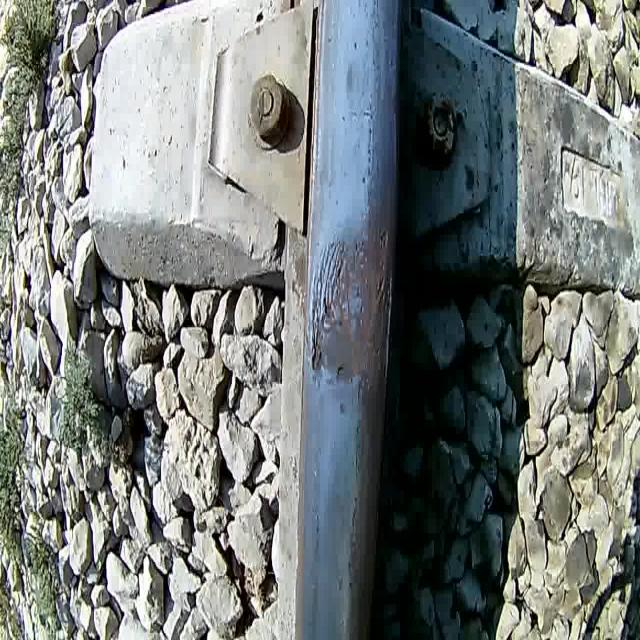Cracks: (309, 235, 350, 380)
Spallings: (373, 222, 392, 316)
Squats: (304, 214, 397, 395)
